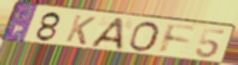5: (194, 27, 227, 59)
8: (35, 11, 61, 42)
A: (89, 18, 127, 51)
F: (157, 22, 198, 55)
K: (63, 13, 98, 46)
O: (126, 21, 161, 53)
